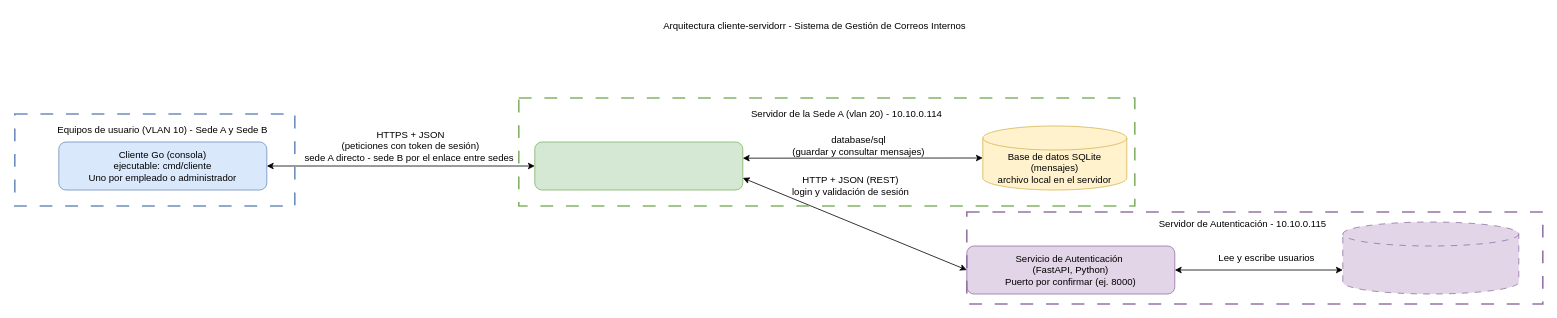
The diagram is 1557 pixels wide and 318 high, and some of its shapes have lost their labels. The centre of each missing label's shape, as x and y in pixels:
"Almacén de Usuarios (contraseñas con hash) modelo de datos: otra asignatura)" belongs at (x=1430, y=257).
"Servidor Go ejecutable: cmd/servidor Puerto por confirmar (ej. 8443)" belongs at (x=638, y=165).
